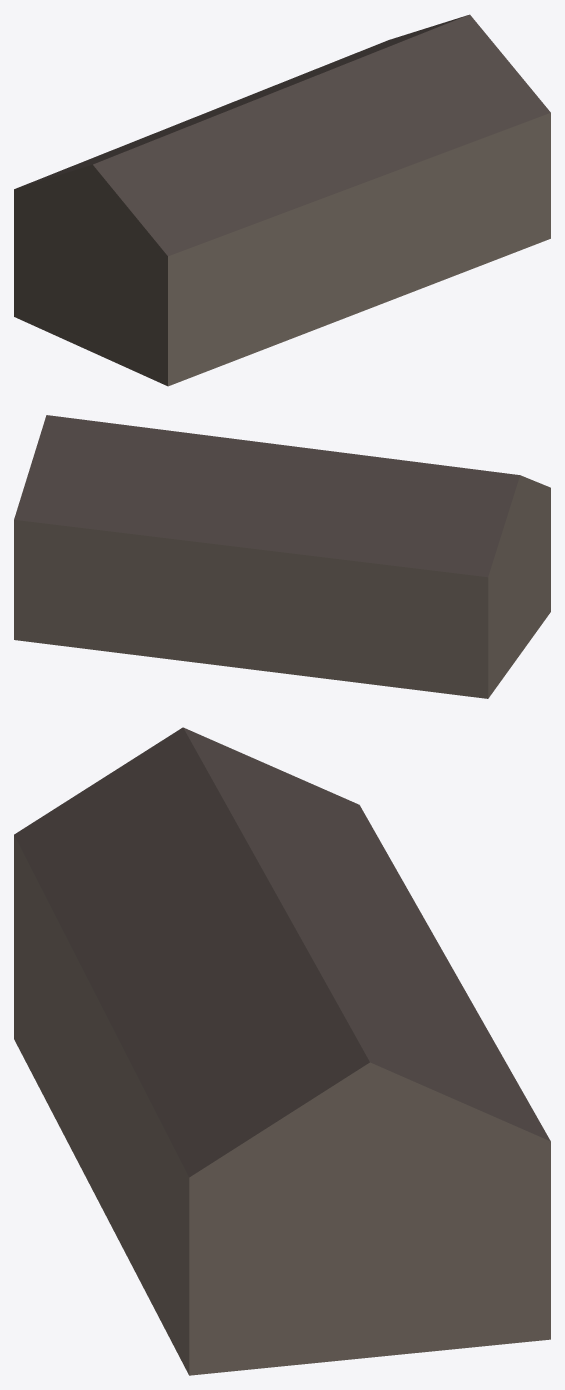
The picture shows the model from 3 angles, top to bottom: view 1: azimuth 30°, elevation 25°; view 2: azimuth 150°, elevation 25°; view 3: azimuth 270°, elevation 25°; orthographic projection. The views are drawn at different scales.
Visible parts, largest first — view 1: HP-w505649233; view 2: HP-w505649233; view 3: HP-w505649233.
Part boxes in pixels (<box>): HP-w505649233: <box>14,14,550,386</box>; HP-w505649233: <box>14,415,550,698</box>; HP-w505649233: <box>14,727,550,1375</box>.
Size of the model in its own units: 24.07 by 8.95 by 14.75.
